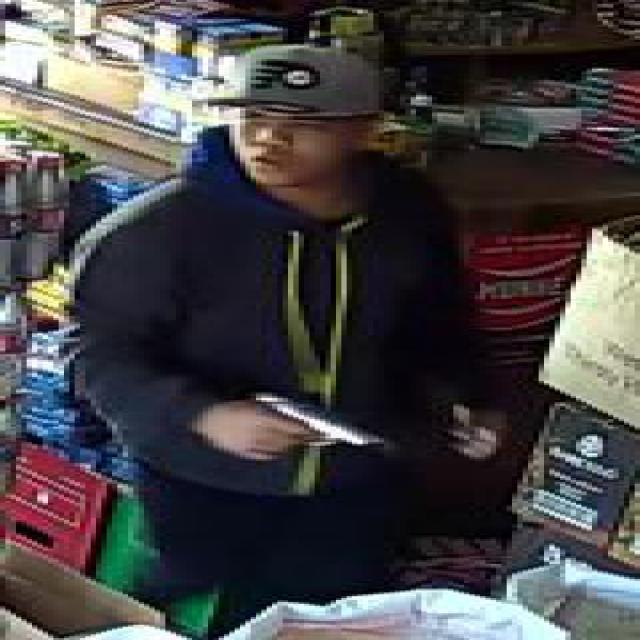gun: (223, 390, 390, 460)
